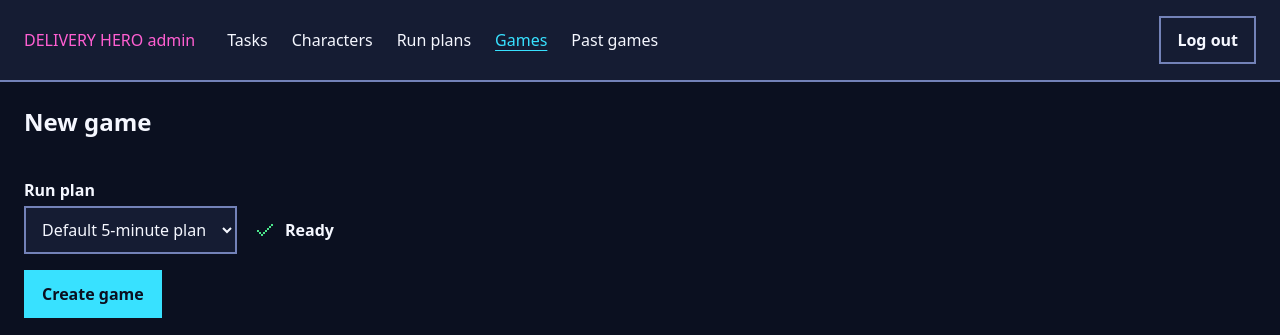
Test: NewGameScreen › AC-US59-02 broken plan: a plan with errors shows them counted and disables Create game
Expected: the text "Ready" is shown, [253,218,334,242]
Select "Friday fun" in the dropdown labelled "Run plan" at (130, 230), box [24,206,237,254]
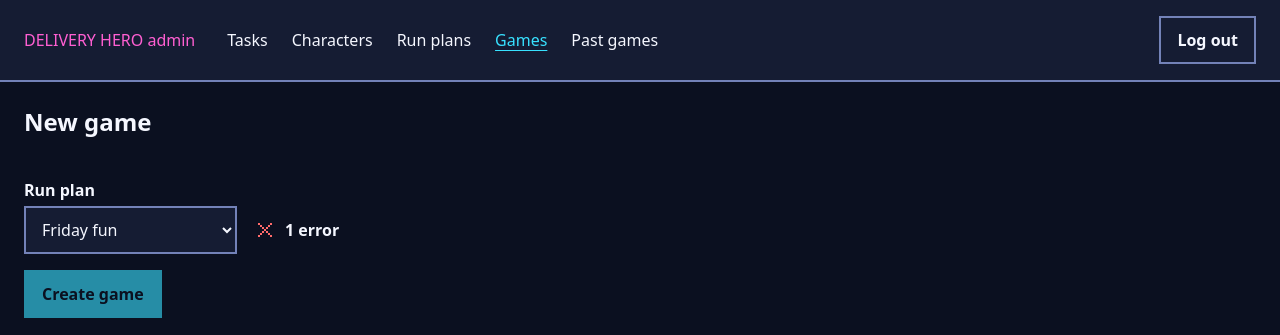
Expected: the text "1 error" is shown, [253,218,339,242]
Expected: the button "Create game" is disabled, [24,270,162,318]
